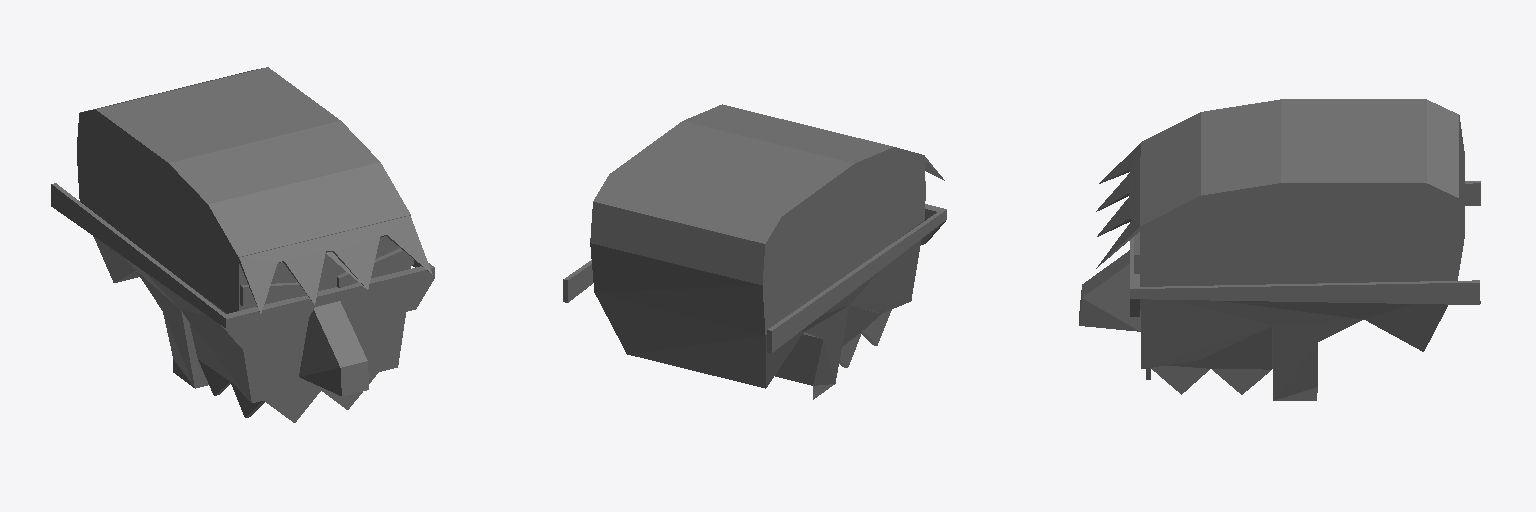
Rendered from masterC.obj.
3 views of the same model, side by side, from view 1: azimuth 30°, elevation 25°; view 2: azimuth 150°, elevation 25°; view 3: azimuth 270°, elevation 25° (orthographic).
Parts seen in each view (by area): view 1: polySurface8 crocker:Mesh6; view 2: polySurface8 crocker:Mesh6; view 3: polySurface8 crocker:Mesh6.
Boxes of the visible parts, x1,y1,x2,y2 form: polySurface8 crocker:Mesh6: [51, 67, 434, 422]; polySurface8 crocker:Mesh6: [563, 104, 946, 399]; polySurface8 crocker:Mesh6: [1079, 99, 1480, 400].
Bounding box in the file's own units: 1.1 × 1.15 × 1.83.